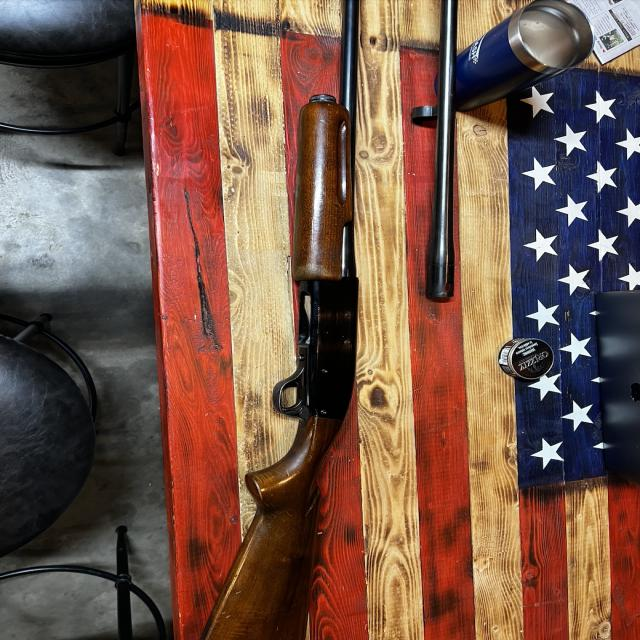ShotGun: (201, 0, 358, 640)
